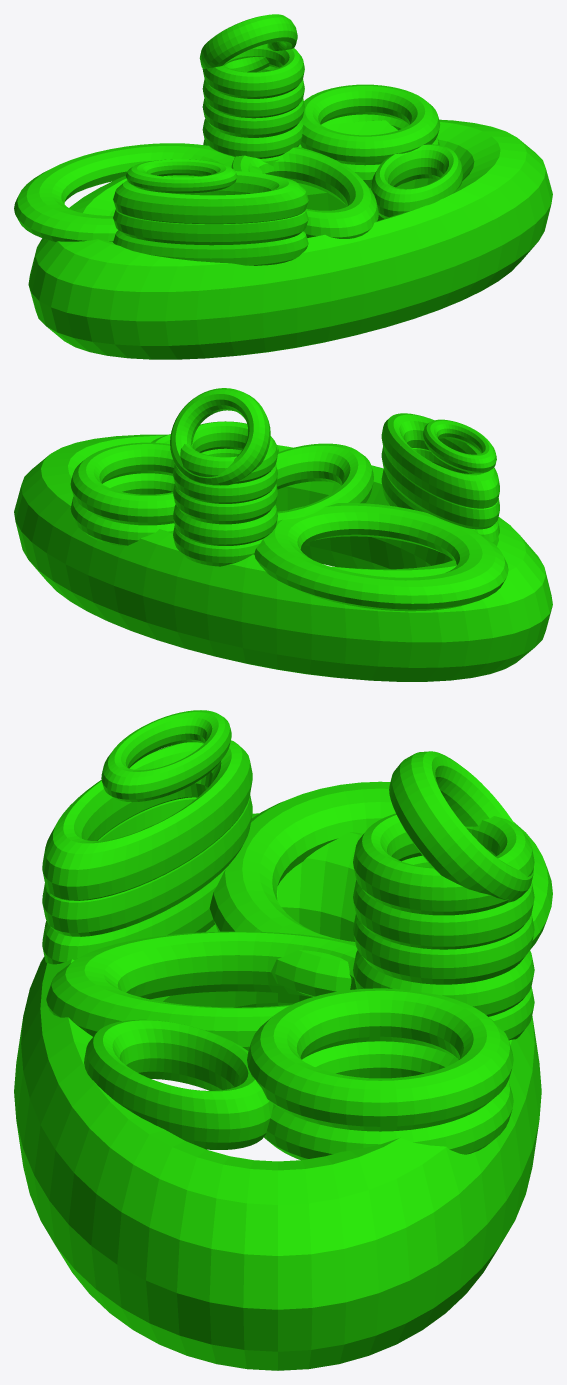
The model's file is slurpplant.fbx.
3 views of the same model, one above another, from view 1: azimuth 30°, elevation 25°; view 2: azimuth 150°, elevation 25°; view 3: azimuth 270°, elevation 25° (orthographic). The views are drawn at different scales.
Parts seen in each view (by area): view 1: Torus, Torus.004, Torus.015, Torus.008, Torus.001, Torus.002, Torus.007, Torus.013, Torus.006, Torus.014, Torus.009, Torus.010 (+3 smaller); view 2: Torus, Torus.004, Torus.015, Torus.008, Torus.001, Torus.013, Torus.003, Torus.014, Torus.007, Torus.009, Torus.010, Torus.011 (+3 smaller); view 3: Torus, Torus.015, Torus.001, Torus.004, Torus.008, Torus.002, Torus.013, Torus.003, Torus.014, Torus.007, Torus.009, Torus.011 (+4 smaller).
Part boxes in pixels (box(x1,y1,x2,y2)): Torus: box(28, 119, 552, 359); Torus.004: box(14, 143, 263, 241); Torus.015: box(300, 84, 440, 165); Torus.008: box(113, 171, 308, 224); Torus.001: box(231, 147, 378, 238); Torus.002: box(371, 144, 462, 218); Torus.007: box(113, 209, 308, 245); Torus.013: box(199, 14, 297, 72); Torus.006: box(113, 230, 308, 265); Torus.014: box(202, 43, 304, 98); Torus.009: box(126, 159, 237, 193); Torus.010: box(202, 118, 303, 158); Torus: box(14, 434, 552, 681); Torus.004: box(254, 503, 508, 611); Torus.015: box(70, 442, 175, 525); Torus.008: box(381, 413, 499, 508); Torus.001: box(276, 443, 373, 520); Torus.013: box(170, 388, 270, 485); Torus.003: box(70, 473, 174, 545); Torus.014: box(176, 421, 277, 483); Torus.007: box(381, 447, 499, 529); Torus.009: box(423, 419, 496, 473); Torus.010: box(173, 504, 277, 545); Torus.011: box(173, 448, 277, 503); Torus: box(14, 813, 541, 1370); Torus.015: box(247, 988, 513, 1131); Torus.001: box(46, 931, 357, 1050); Torus.004: box(209, 781, 552, 996); Torus.008: box(42, 740, 252, 900); Torus.002: box(84, 1019, 273, 1149); Torus.013: box(389, 751, 533, 902); Torus.003: box(264, 1041, 513, 1160); Torus.014: box(353, 813, 534, 915); Torus.007: box(42, 794, 252, 936); Torus.009: box(101, 710, 231, 802); Torus.011: box(353, 855, 534, 949).
Size of the model in its own units: 968 by 449 by 505.
